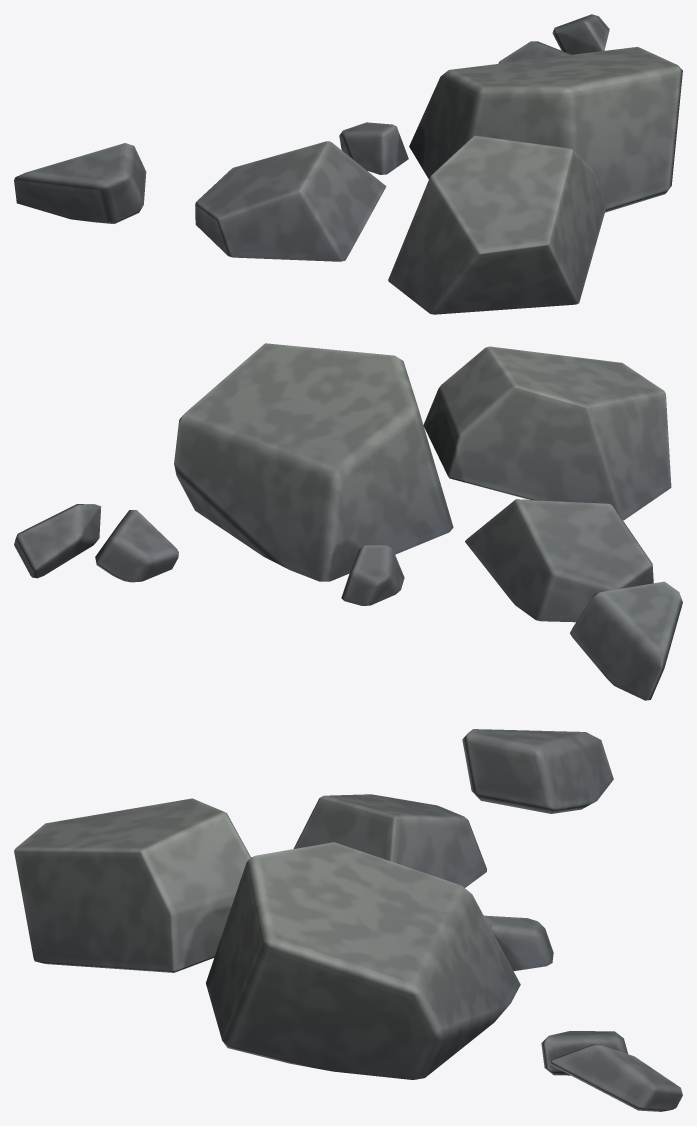
Rendered from rubble_2.glb.
The picture shows the model from 3 angles, top to bottom: view 1: azimuth 30°, elevation 25°; view 2: azimuth 150°, elevation 25°; view 3: azimuth 270°, elevation 25°; orthographic projection. The views are drawn at different scales.
Visible parts, largest first — view 1: rubble_2; view 2: rubble_2; view 3: rubble_2.
Part boxes in pixels (x1,y1,x2,y2): rubble_2: [14, 14, 682, 314]; rubble_2: [14, 343, 682, 700]; rubble_2: [14, 729, 682, 1111].
Bounding box in the file's own units: 1 × 0.2 × 0.8.
1 material, 1 textured.
